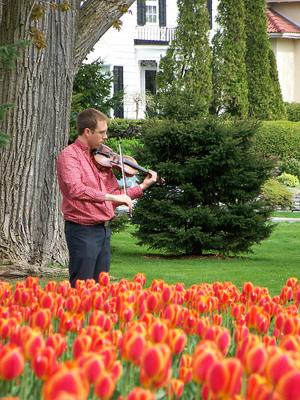person: (57, 110, 158, 287)
